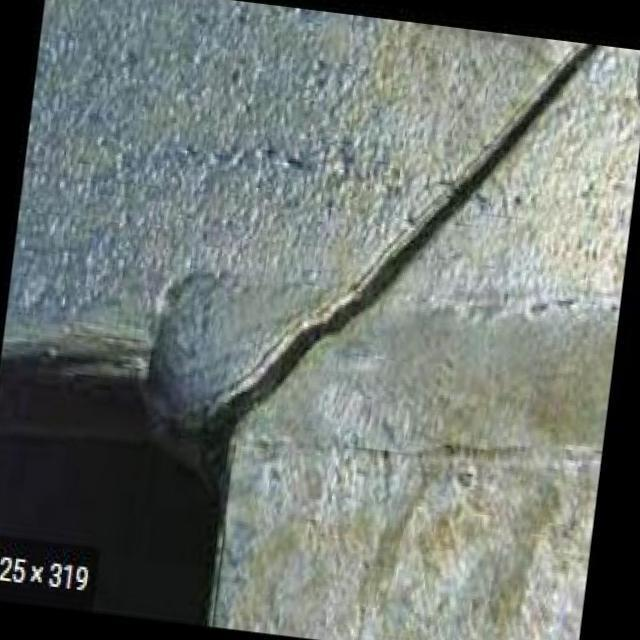defect: (204, 43, 602, 445)
